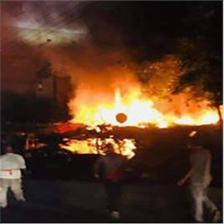fire: (60, 54, 220, 130), (50, 135, 140, 160)
